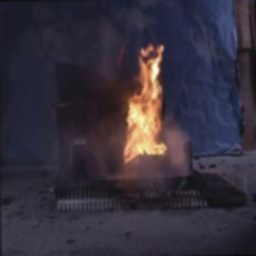fire: (107, 38, 177, 165)
